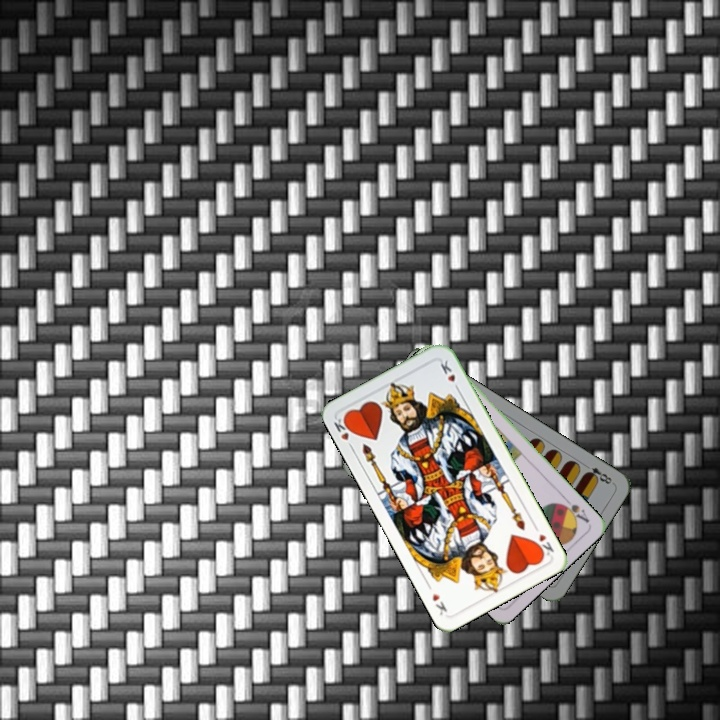E8: (581, 460, 616, 487)
HK: (329, 411, 356, 452), (529, 520, 556, 560)
SA: (555, 493, 592, 526)
